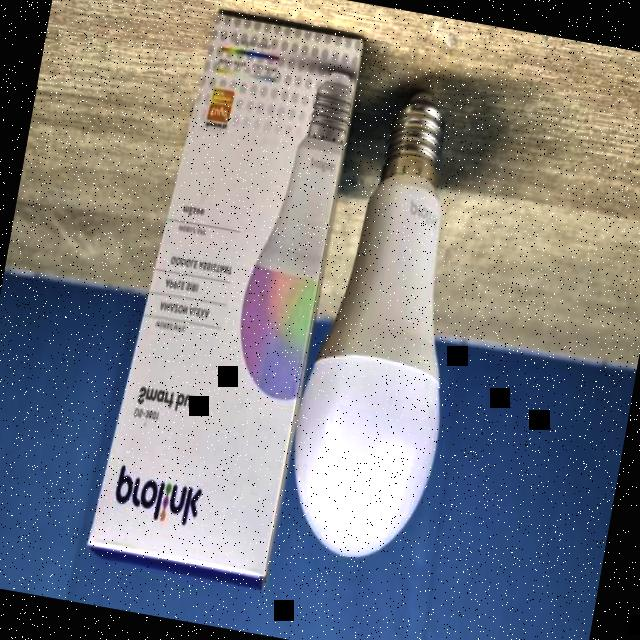light_bulb: (270, 70, 502, 576)
